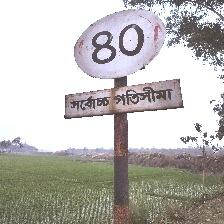Speed-limit: (67, 6, 177, 118)
